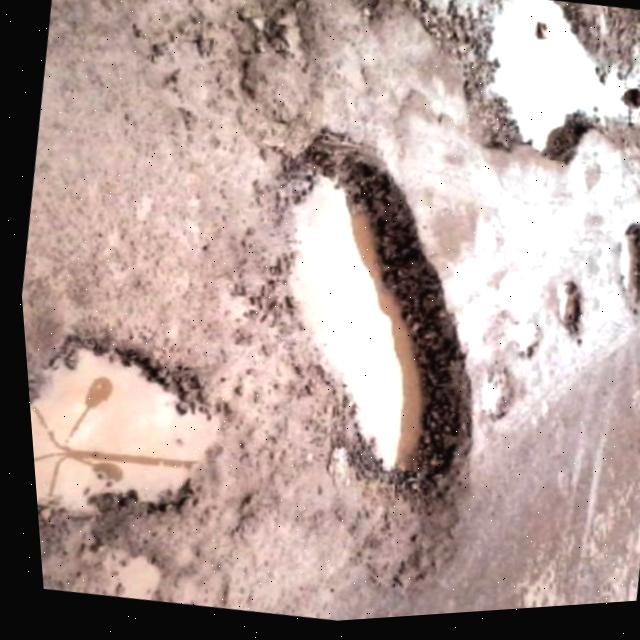Pothole: (218, 102, 530, 536), (19, 308, 251, 553), (462, 0, 638, 187), (600, 225, 640, 317), (539, 282, 588, 345), (468, 372, 512, 431), (502, 322, 543, 367)
